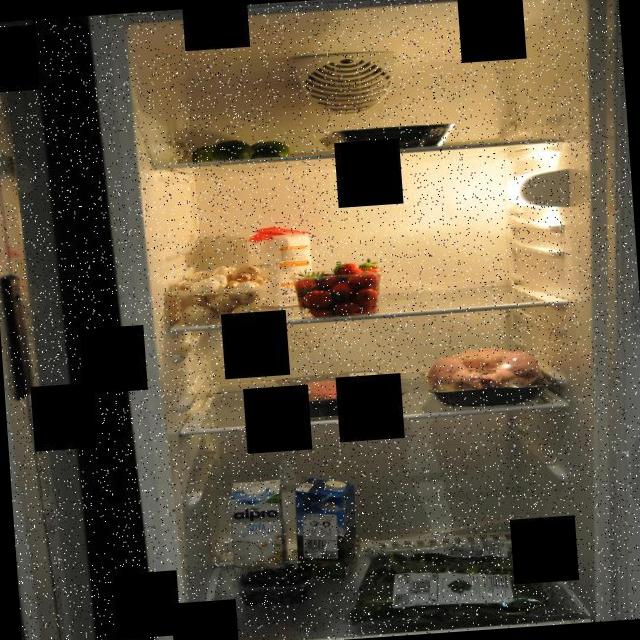Carne pollo: (419, 341, 553, 408)
Champiñones: (174, 260, 272, 328)
Leche: (294, 474, 361, 580), (227, 476, 296, 576)
